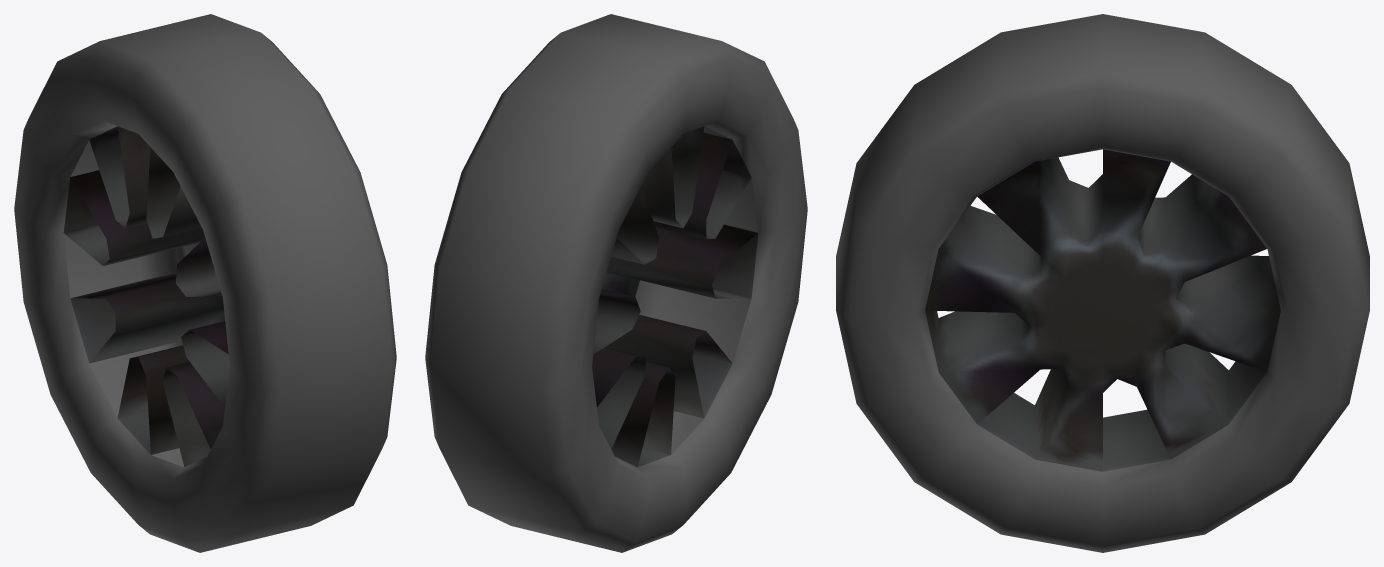
File: Mustang_wheel.fbx
3 renders of one model, left to right at view 1: azimuth 30°, elevation 25°; view 2: azimuth 150°, elevation 25°; view 3: azimuth 270°, elevation 25°, orthographic.
Parts seen in each view (by area): view 1: Ford_mustang2012_wheel.F.L; view 2: Ford_mustang2012_wheel.F.L; view 3: Ford_mustang2012_wheel.F.L.
Boxes of the visible parts, left/top/right/bottom form: Ford_mustang2012_wheel.F.L: left=14, top=14, right=396, bottom=552; Ford_mustang2012_wheel.F.L: left=425, top=14, right=807, bottom=552; Ford_mustang2012_wheel.F.L: left=836, top=14, right=1369, bottom=552.
Size of the model in its own units: 28.2 by 89.93 by 89.93.
Materials: 2 (1 with a texture image).
